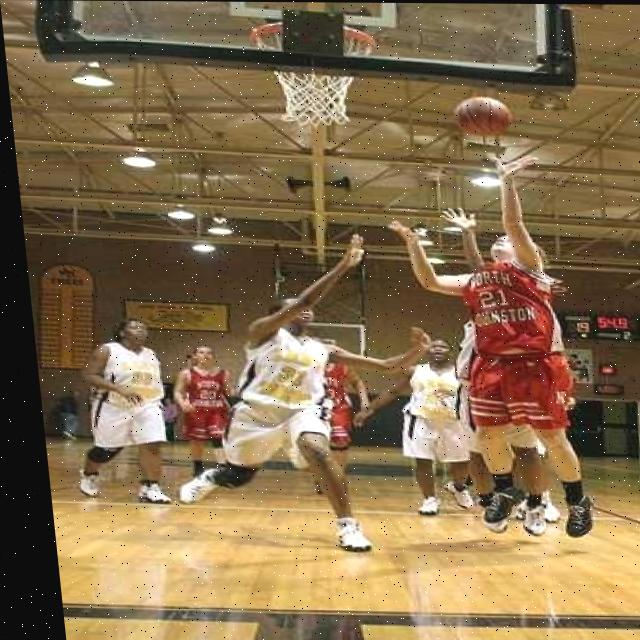basketball: (377, 94, 603, 539), (449, 94, 515, 140)
hoop: (244, 18, 388, 128)
